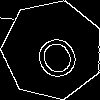O: (27, 25, 83, 83)
